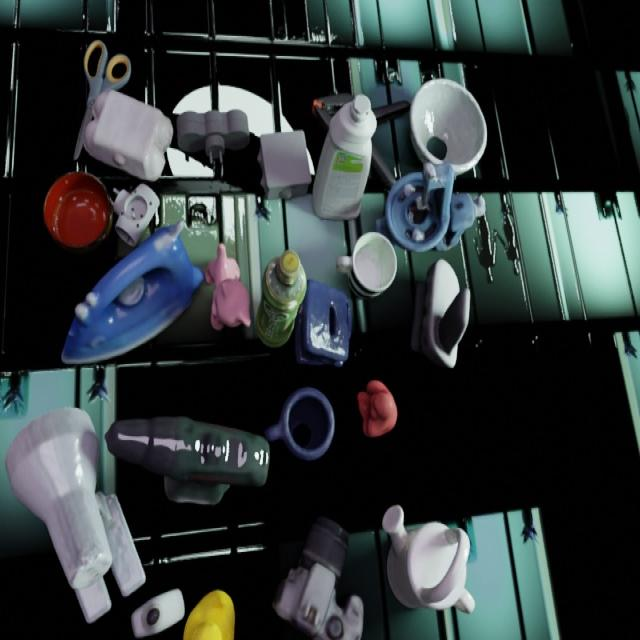Other Objects: (6, 408, 110, 621), (384, 79, 487, 251), (106, 417, 269, 485), (382, 505, 469, 609), (272, 519, 346, 639), (75, 91, 172, 179), (312, 93, 376, 220), (312, 95, 376, 220), (75, 40, 130, 159), (411, 259, 470, 368), (265, 387, 334, 460), (256, 249, 306, 347), (98, 492, 145, 596), (295, 279, 351, 365), (337, 232, 396, 296), (258, 131, 313, 197), (131, 589, 184, 637), (183, 589, 233, 639), (356, 380, 397, 437), (164, 477, 229, 504), (340, 595, 363, 639)
